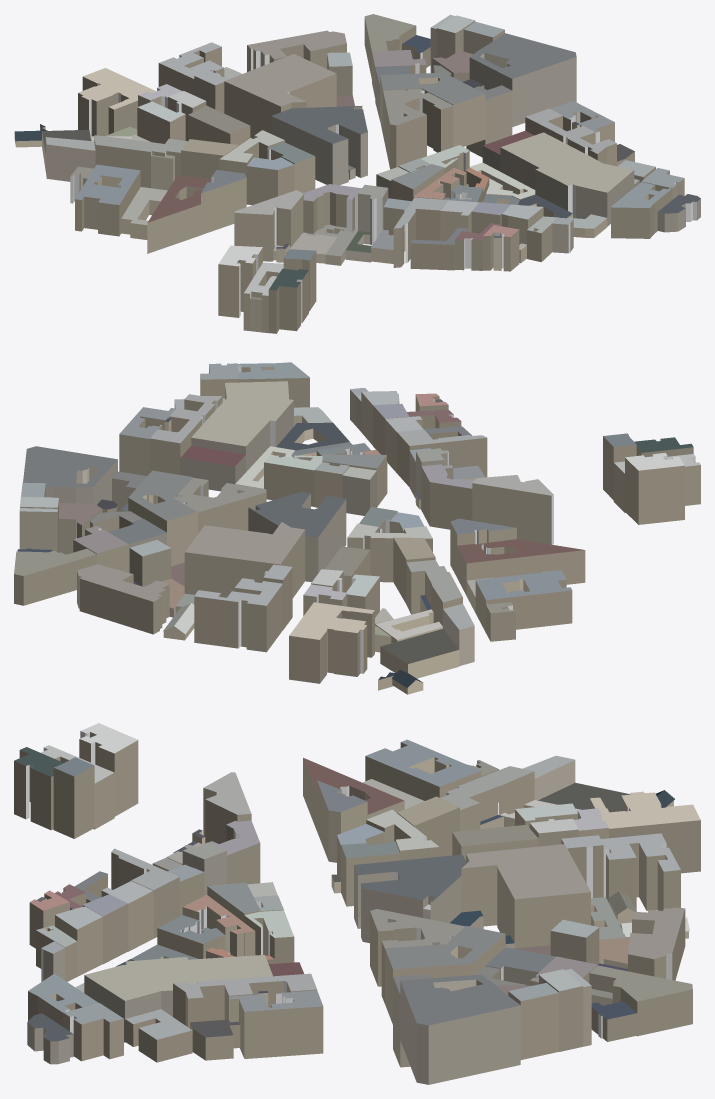
The picture shows the model from 3 angles, top to bottom: view 1: azimuth 30°, elevation 25°; view 2: azimuth 150°, elevation 25°; view 3: azimuth 270°, elevation 25°; orthographic projection. The views are drawn at different scales.
Parts seen in each view (by area): view 1: tuile; view 2: tuile; view 3: tuile.
Part boxes in pixels (left/top/right/bottom): tuile: left=14, top=14, right=700, bottom=333; tuile: left=14, top=362, right=700, bottom=694; tuile: left=14, top=723, right=700, bottom=1084.
Size of the model in its own units: 285 by 41.01 by 271.
